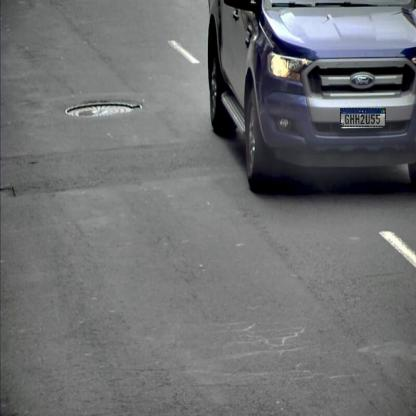PlacaM: (340, 108, 386, 127)
